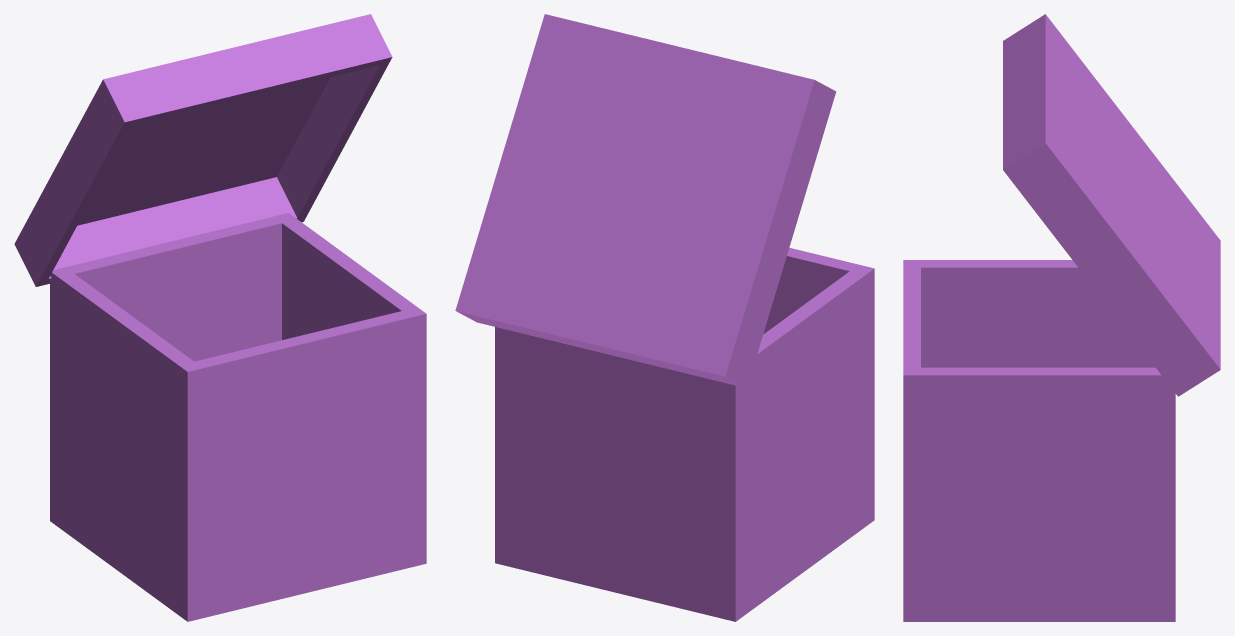
3 renders of one model, left to right at view 1: azimuth 30°, elevation 25°; view 2: azimuth 150°, elevation 25°; view 3: azimuth 270°, elevation 25°, orthographic. The views are drawn at different scales.
Visible parts, largest first — view 1: box, box_cap; view 2: box, box_cap; view 3: box, box_cap.
Boxes of the visible parts, x1=… form: box: x1=50, y1=213, x2=426, y2=621; box_cap: x1=14, y1=14, x2=392, y2=286; box: x1=495, y1=247, x2=874, y2=621; box_cap: x1=455, y1=14, x2=836, y2=388; box: x1=903, y1=260, x2=1175, y2=621; box_cap: x1=1003, y1=14, x2=1220, y2=396.
Size of the model in its own units: 224 by 394 by 233.
